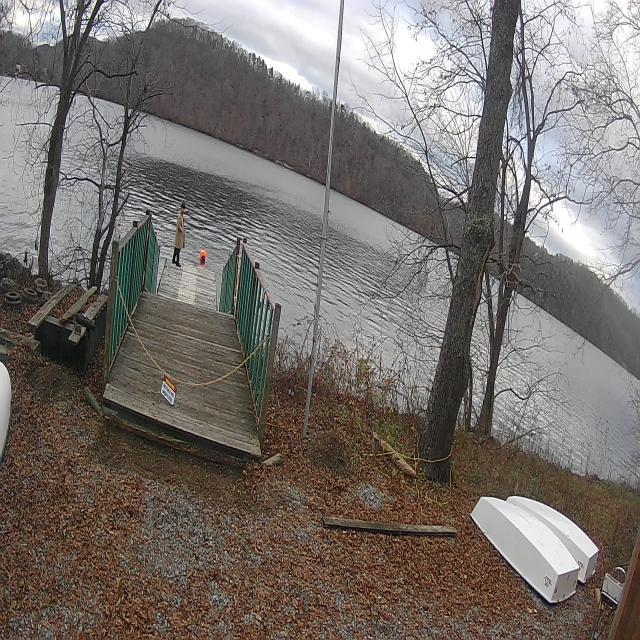Buoy: (198, 245, 209, 276)
